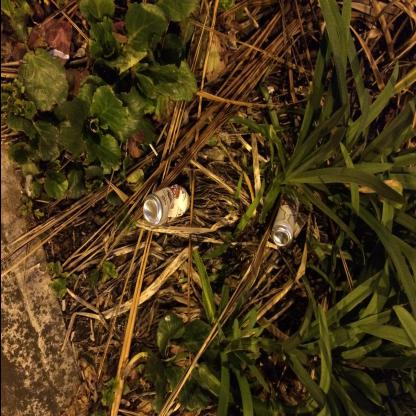metal: (142, 184, 189, 227), (270, 192, 298, 247)
